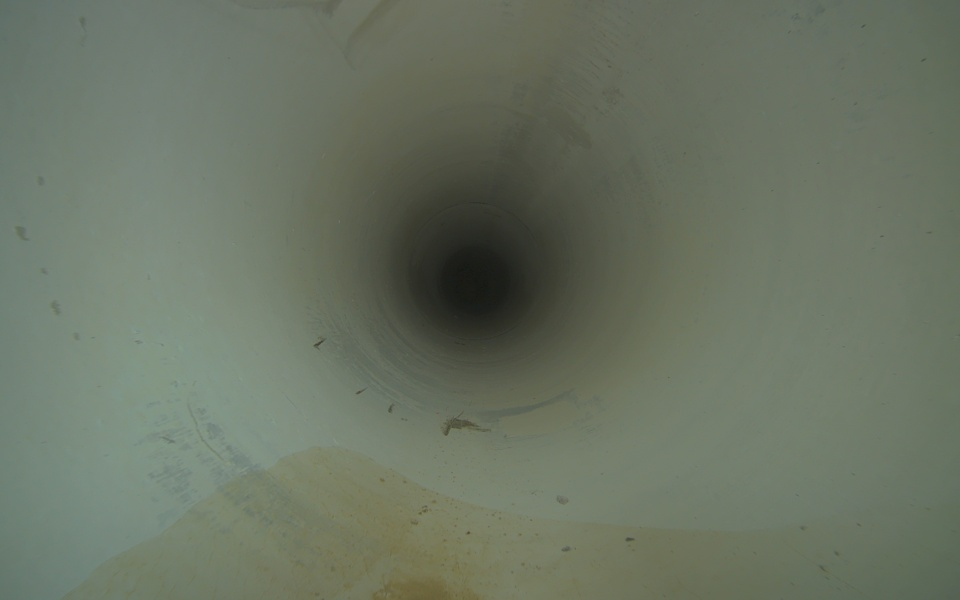circle1: (406, 200, 544, 341)
circle2: (442, 249, 509, 314)
